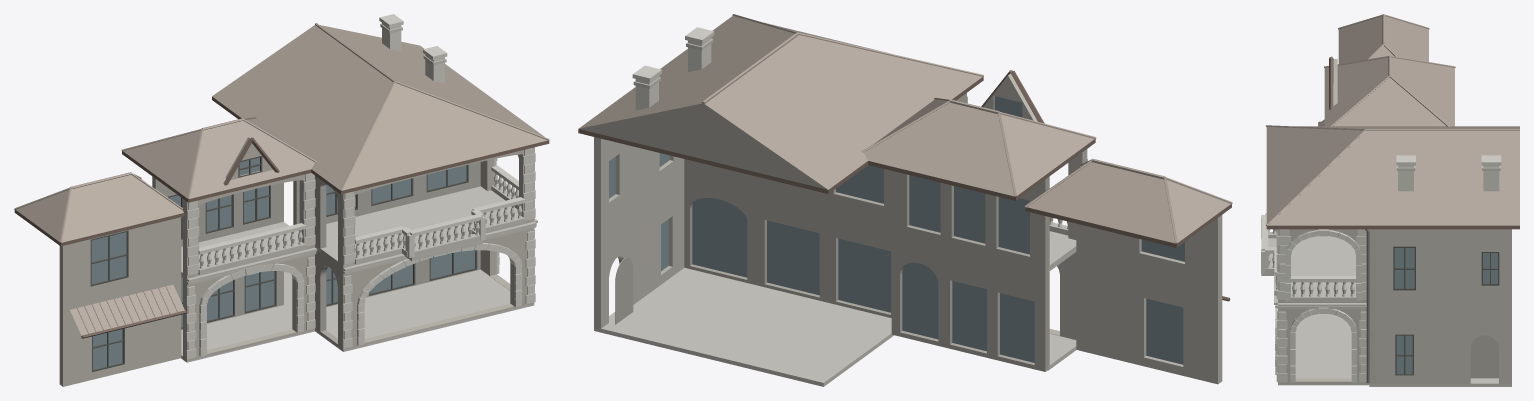
File: xuhui-ailu-residence-garden-loggia-lod.glb
3 views of the same model, side by side, from view 1: azimuth 30°, elevation 25°; view 2: azimuth 150°, elevation 25°; view 3: azimuth 270°, elevation 25° (orthographic). The views are drawn at different scales.
Parts seen in each view (by area): view 1: 东平路9号爱庐甲楼花园敞廊; view 2: 东平路9号爱庐甲楼花园敞廊; view 3: 东平路9号爱庐甲楼花园敞廊.
Part boxes in pixels (<box>): 东平路9号爱庐甲楼花园敞廊: <box>14,14,549,386</box>; 东平路9号爱庐甲楼花园敞廊: <box>578,14,1232,386</box>; 东平路9号爱庐甲楼花园敞廊: <box>1261,14,1519,386</box>.
Size of the model in its own units: 24.33 by 11.14 by 12.28.
